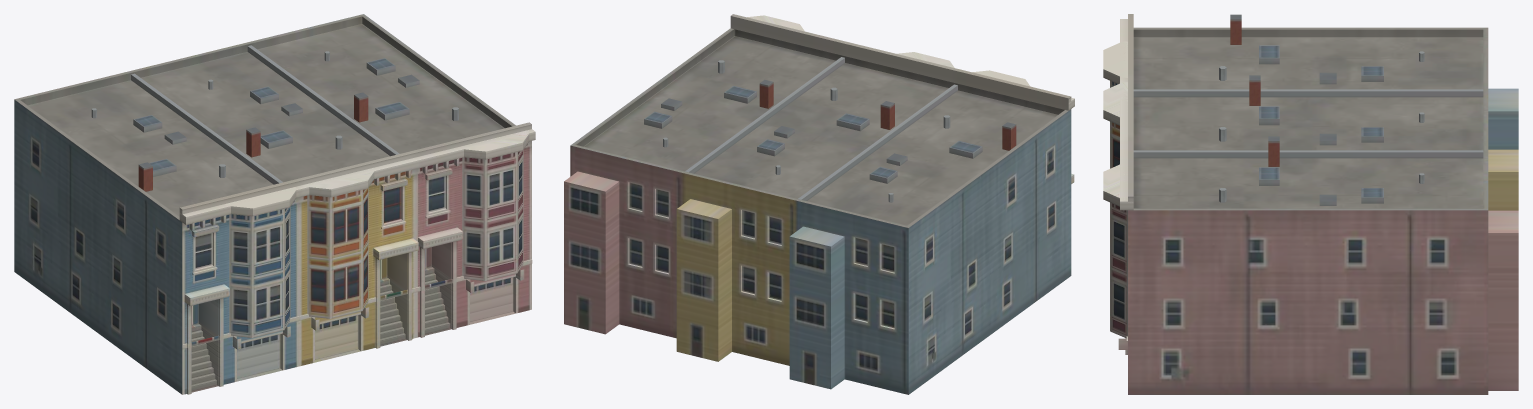
Rendered from sf_victorian_a.glb.
The picture shows the model from 3 angles, left to right: view 1: azimuth 30°, elevation 25°; view 2: azimuth 150°, elevation 25°; view 3: azimuth 270°, elevation 25°; orthographic projection. The views are drawn at different scales.
Parts seen in each view (by area): view 1: sf_victorian_a; view 2: sf_victorian_a; view 3: sf_victorian_a.
Part boxes in pixels (x1,y1,x2,y2): sf_victorian_a: (14, 14, 535, 394); sf_victorian_a: (564, 14, 1074, 394); sf_victorian_a: (1103, 14, 1518, 394).
Bounding box in the file's own units: 22.8 × 11.8 × 21.9.
1 material, 1 textured.
